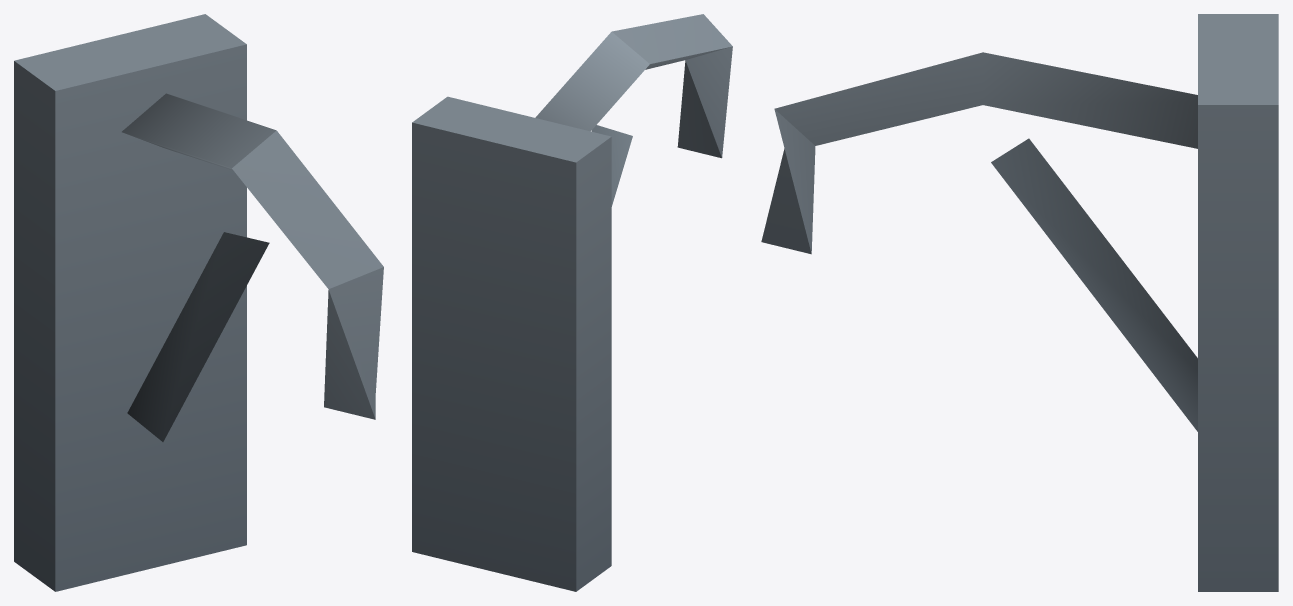
The model's file is ruins-bracket-low.glb.
3 renders of one model, left to right at view 1: azimuth 30°, elevation 25°; view 2: azimuth 150°, elevation 25°; view 3: azimuth 270°, elevation 25°, orthographic. The views are drawn at different scales.
Visible parts, largest first — view 1: 0_ruins_bracket; view 2: 0_ruins_bracket; view 3: 0_ruins_bracket.
Boxes of the visible parts, x1=… form: 0_ruins_bracket: x1=14, y1=14, x2=383, y2=591; 0_ruins_bracket: x1=412, y1=14, x2=732, y2=591; 0_ruins_bracket: x1=761, y1=14, x2=1278, y2=591.
Bounding box in the file's own units: 0.16 × 0.4117 × 0.385.
